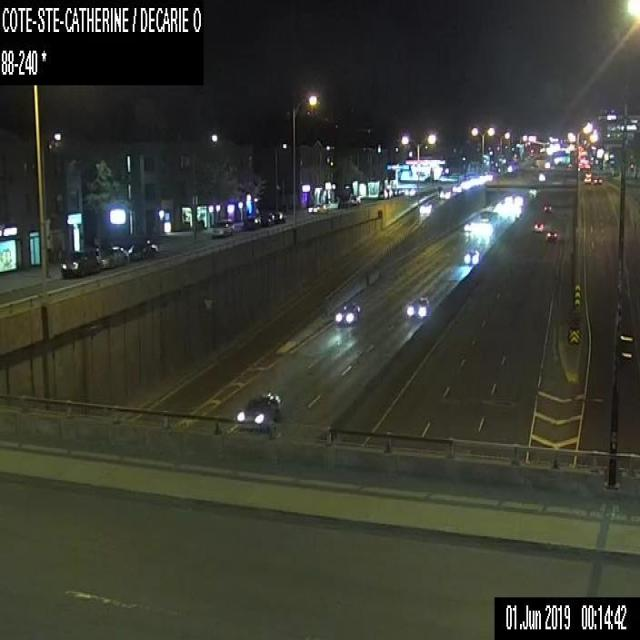vehicle: (236, 392, 282, 423), (60, 247, 100, 276), (97, 246, 128, 268), (334, 299, 360, 324), (127, 240, 157, 260), (406, 296, 428, 318), (209, 218, 234, 237), (242, 215, 261, 229), (463, 249, 479, 264), (545, 228, 559, 242), (260, 212, 274, 225), (308, 204, 322, 213), (273, 212, 285, 222), (533, 221, 545, 230), (542, 201, 552, 211), (594, 174, 601, 183), (584, 177, 590, 182), (584, 172, 591, 176)
